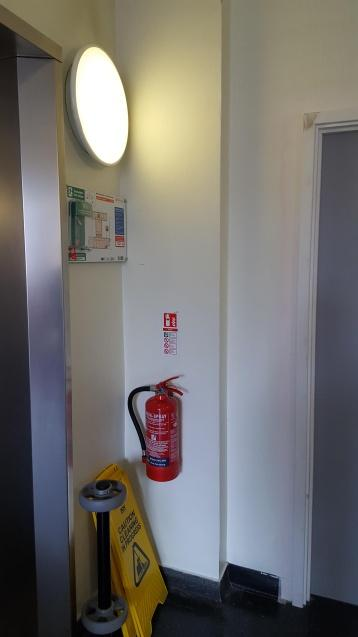APAR: (142, 371, 183, 480)
